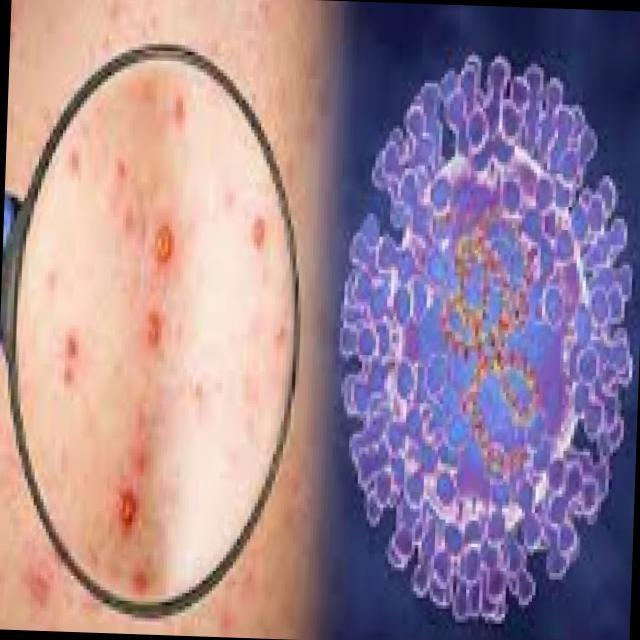Eczema: (29, 78, 289, 570)
